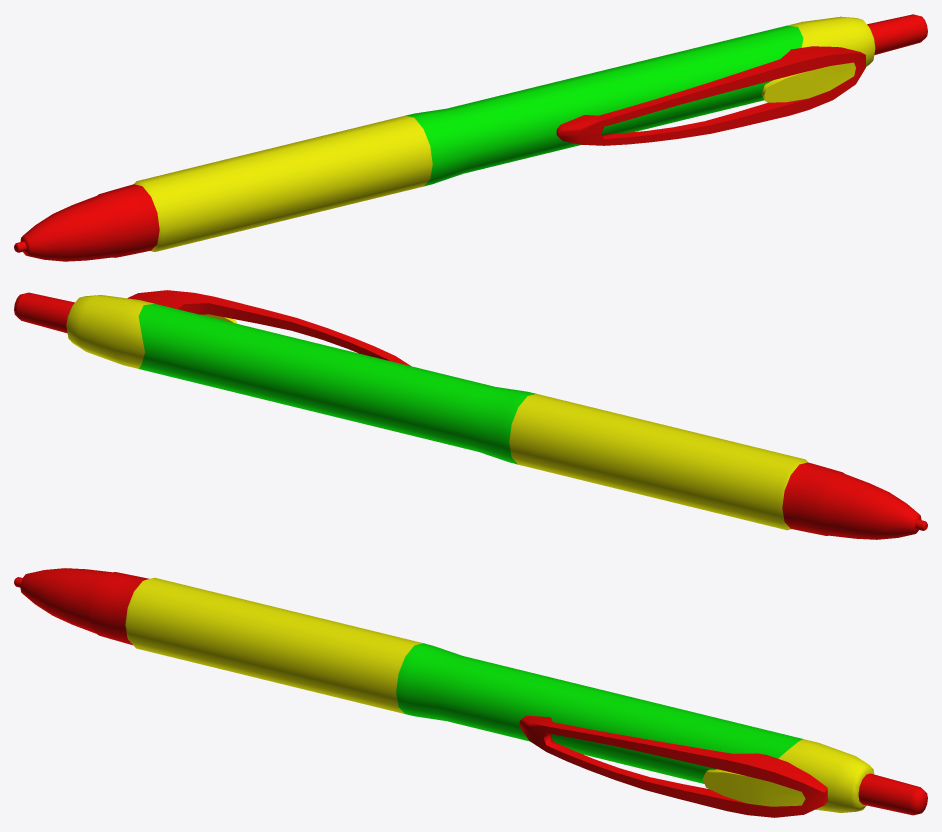
Rendered from thorkea_pens_grp.fbx.
3 renders of one model, top to bottom at view 1: azimuth 30°, elevation 25°; view 2: azimuth 150°, elevation 25°; view 3: azimuth 330°, elevation 25°, orthographic.
Visible parts, largest first — view 1: thorkea_pen_signo; view 2: thorkea_pen_signo; view 3: thorkea_pen_signo.
Part boxes in pixels (left/top/right/bottom): thorkea_pen_signo: left=14, top=14, right=927, bottom=261; thorkea_pen_signo: left=14, top=290, right=927, bottom=539; thorkea_pen_signo: left=14, top=568, right=927, bottom=817.
Size of the model in its own units: 14.49 by 1.01 by 1.42.
